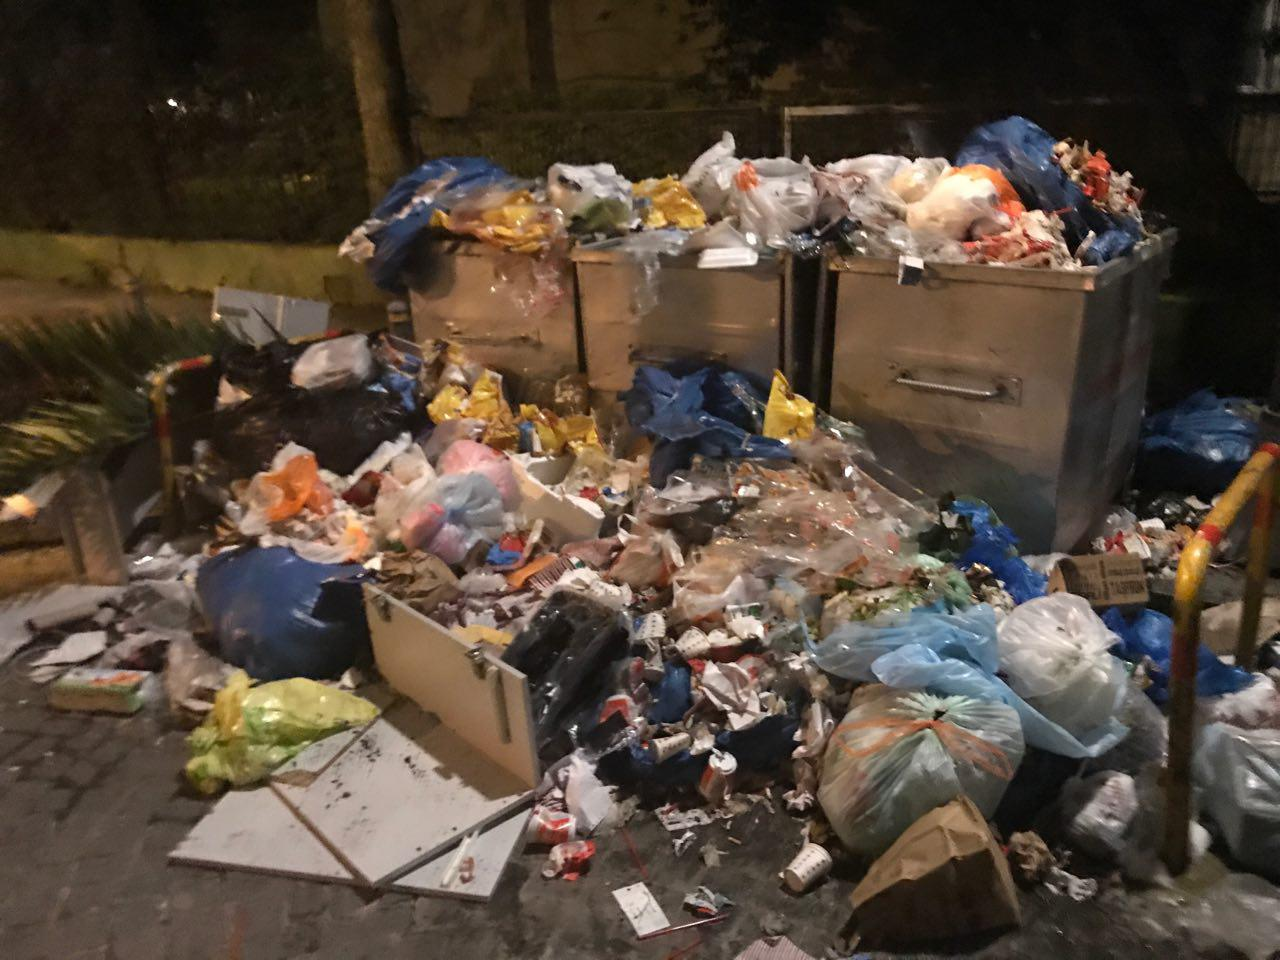Container: (848, 253, 1157, 528), (578, 250, 797, 367), (411, 246, 586, 361)
Garbage: (829, 459, 1280, 901), (178, 357, 587, 585), (595, 367, 814, 787), (692, 130, 1141, 265), (345, 169, 768, 250), (158, 627, 374, 785), (508, 594, 653, 739), (1178, 393, 1267, 461), (532, 804, 598, 891)
